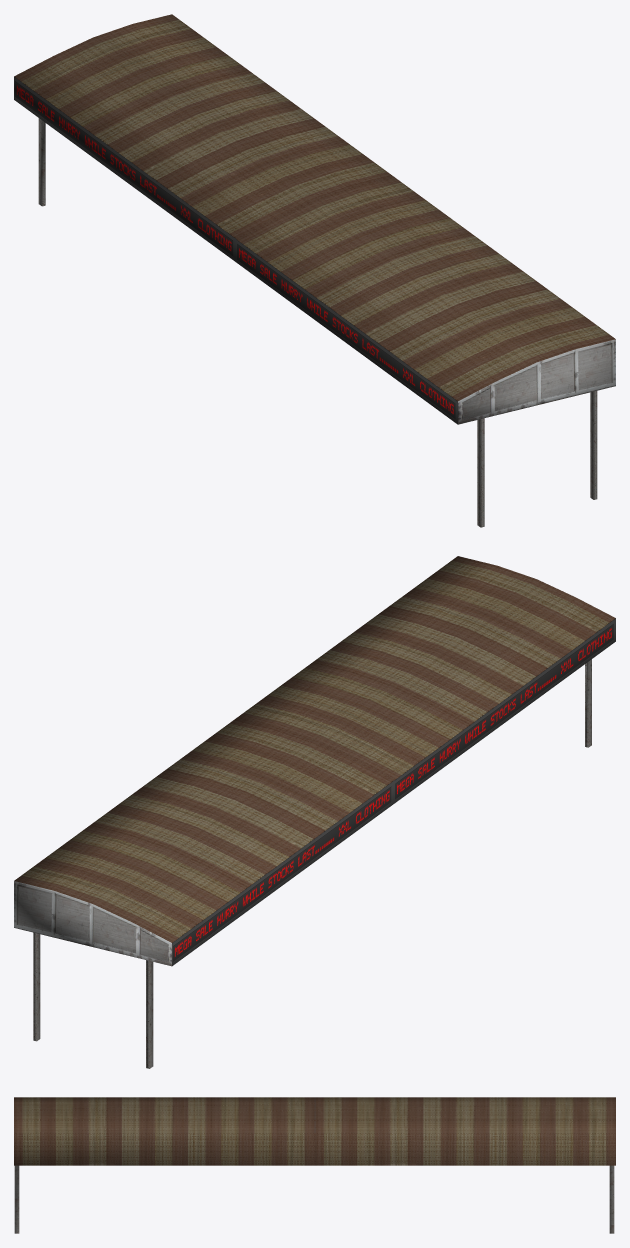
File: sign10.fbx
3 views of the same model, one above another, from view 1: azimuth 30°, elevation 25°; view 2: azimuth 150°, elevation 25°; view 3: azimuth 270°, elevation 25° (orthographic). The views are drawn at different scales.
Visible parts, largest first — view 1: Cube_010; view 2: Cube_010; view 3: Cube_010.
Part boxes in pixels (left/top/right/bottom): Cube_010: left=14, top=14, right=615, bottom=527; Cube_010: left=14, top=556, right=615, bottom=1068; Cube_010: left=14, top=1097, right=615, bottom=1233.
Bounding box in the file's own units: 13.93 × 13.14 × 67.75.
